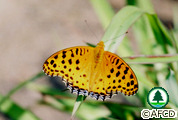Argyreus hyperbius: (41, 16, 142, 100)
butterfly: (40, 16, 141, 100)
